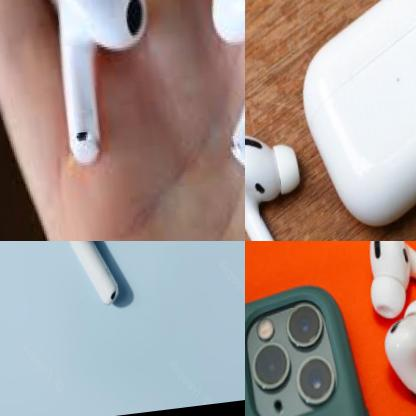Airpods: (38, 0, 159, 173), (182, 0, 245, 175), (245, 130, 312, 241), (46, 241, 130, 319), (358, 305, 416, 416), (354, 241, 416, 319)
